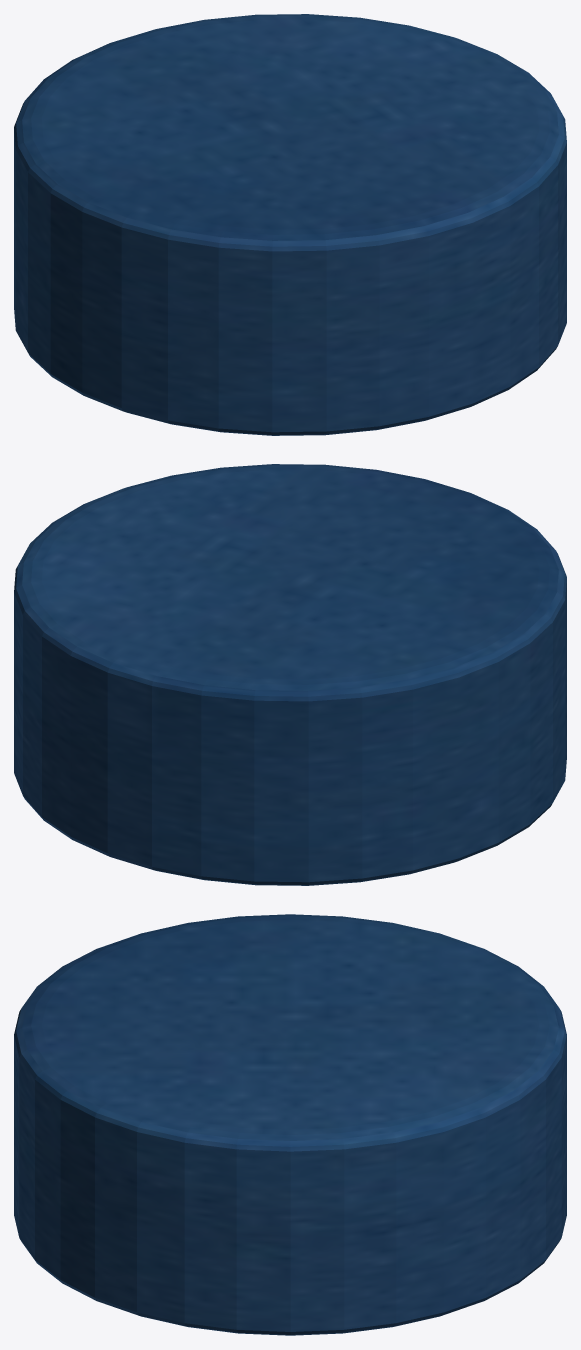
Rendered from blue.obj.
The picture shows the model from 3 angles, top to bottom: view 1: azimuth 30°, elevation 25°; view 2: azimuth 150°, elevation 25°; view 3: azimuth 270°, elevation 25°; orthographic projection.
Visible parts, largest first — view 1: Cylinder_COUCHES; view 2: Cylinder_COUCHES; view 3: Cylinder_COUCHES.
Boxes of the visible parts, <box> form: Cylinder_COUCHES: <box>14,14,566,435</box>; Cylinder_COUCHES: <box>14,464,566,885</box>; Cylinder_COUCHES: <box>14,914,566,1335</box>.
Bounding box in the file's own units: 2 × 0.8 × 2.
